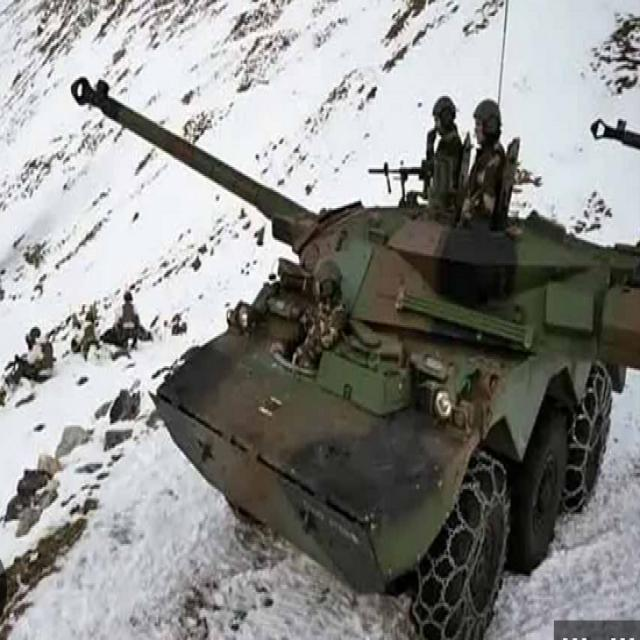MIL_APC: (156, 142, 640, 630)
